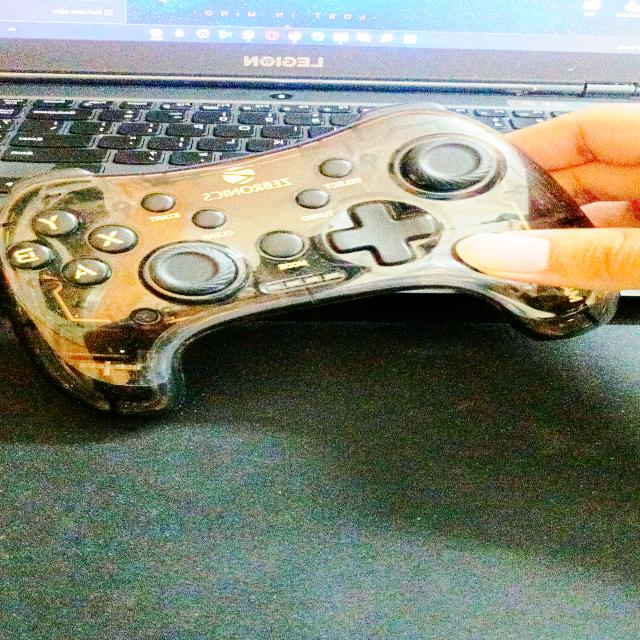gamepad: (0, 101, 623, 417)
